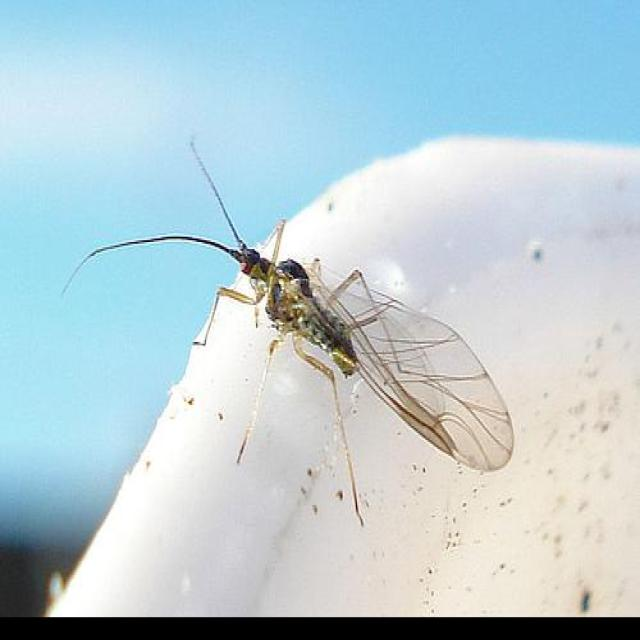Aphids: (54, 117, 521, 524)
